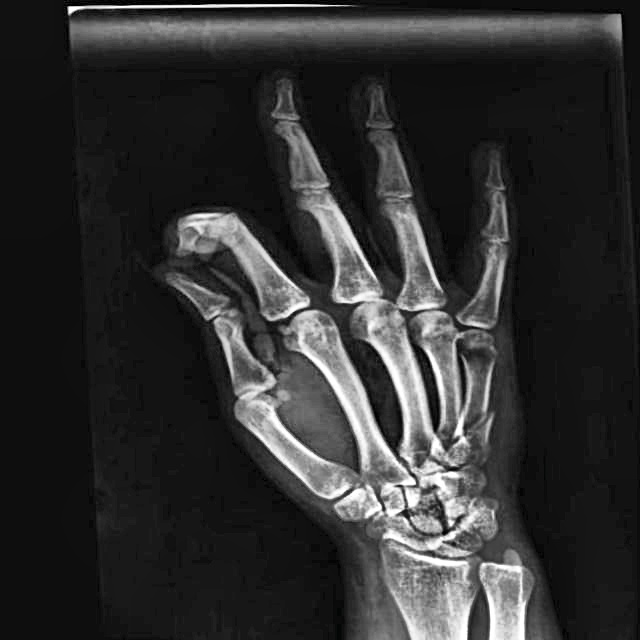Comminuted: (160, 189, 251, 265)
Oblique Displaced: (448, 394, 512, 466)
